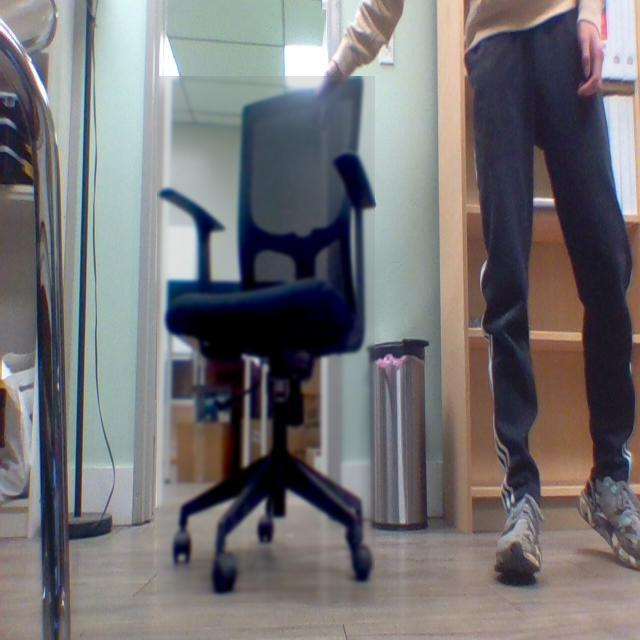chair: (157, 76, 376, 604)
